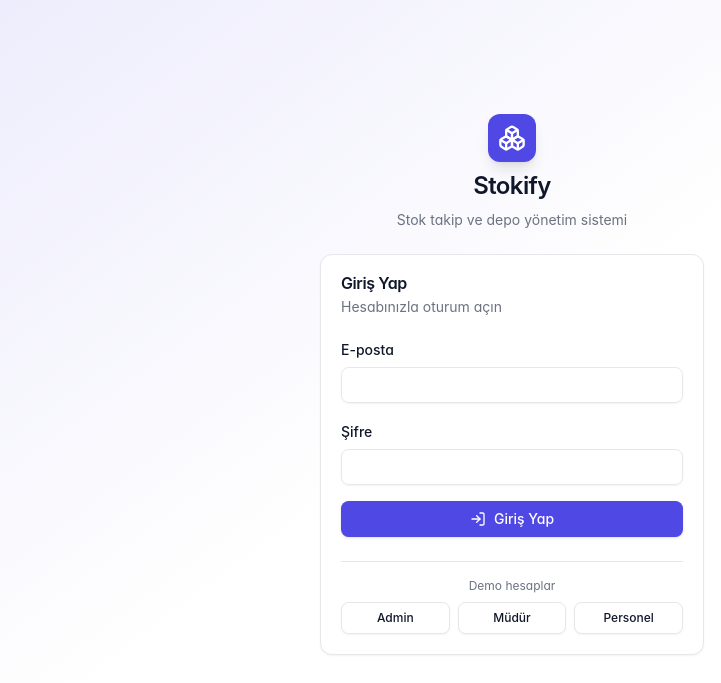
Test case: LoginPage › geçersiz e-postada doğrulama mesajı gösterir ve istek atmaz
Type "gecersiz" into the field labelled "E-posta". click: (512, 384)
box: [341,366,683,402]
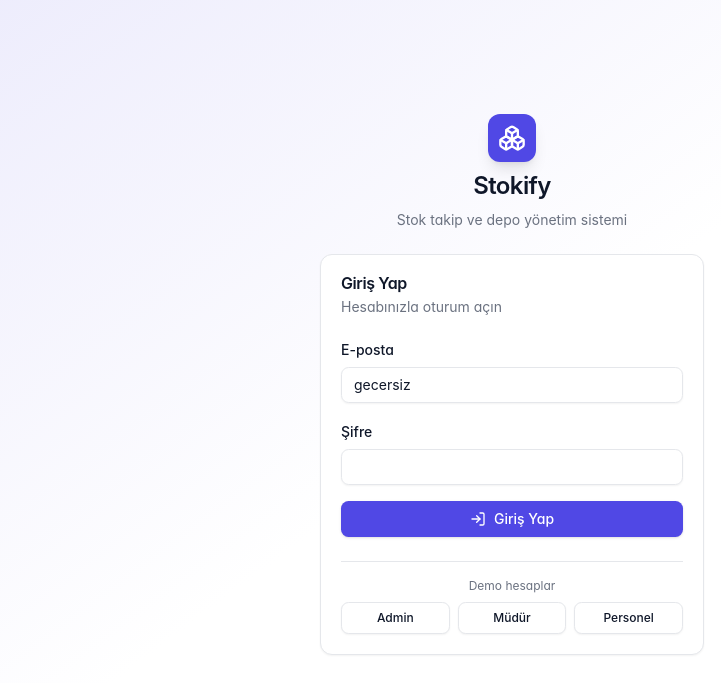
Type "123456" into the password field labelled "Şifre". click: (512, 466)
box: [341,448,683,484]
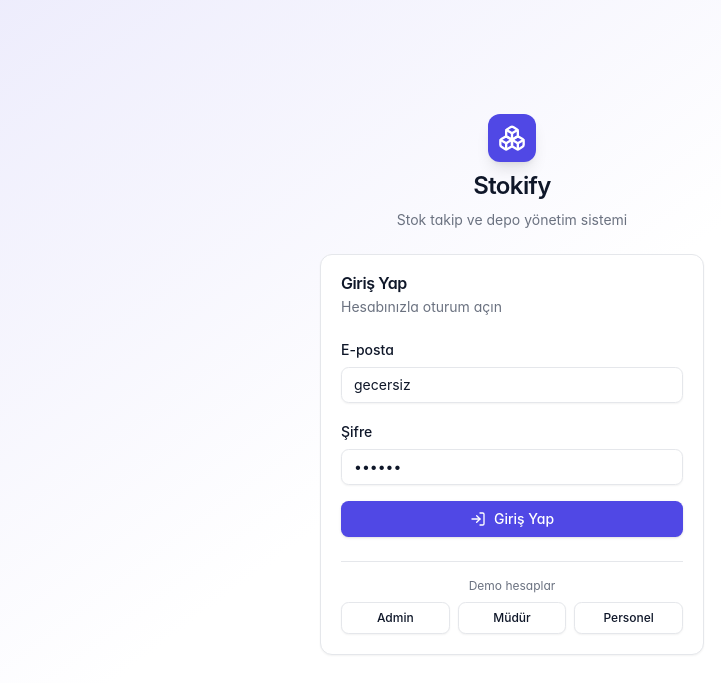
Click the button "Giriş Yap". click: (512, 518)
box: [341,500,683,536]
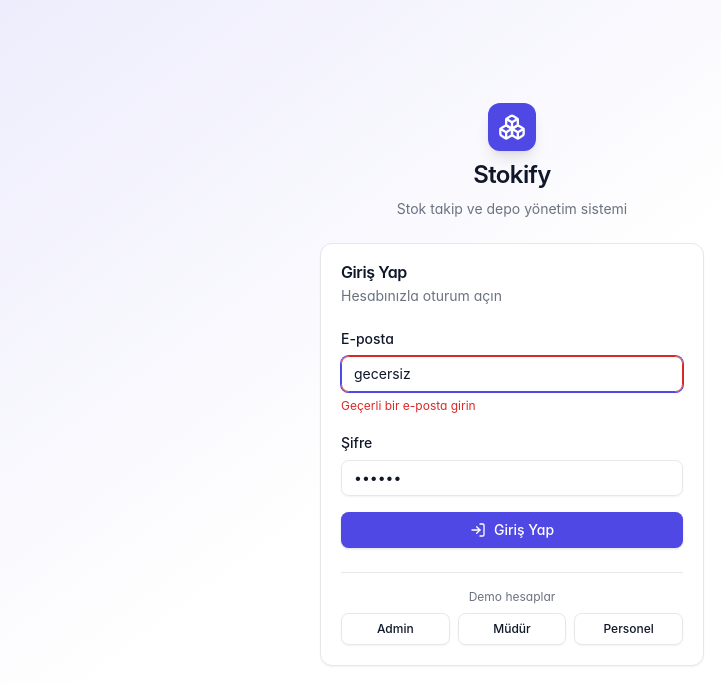
Check: the text "Geçerli bir e-posta girin" is shown, box [341,398,476,412]
